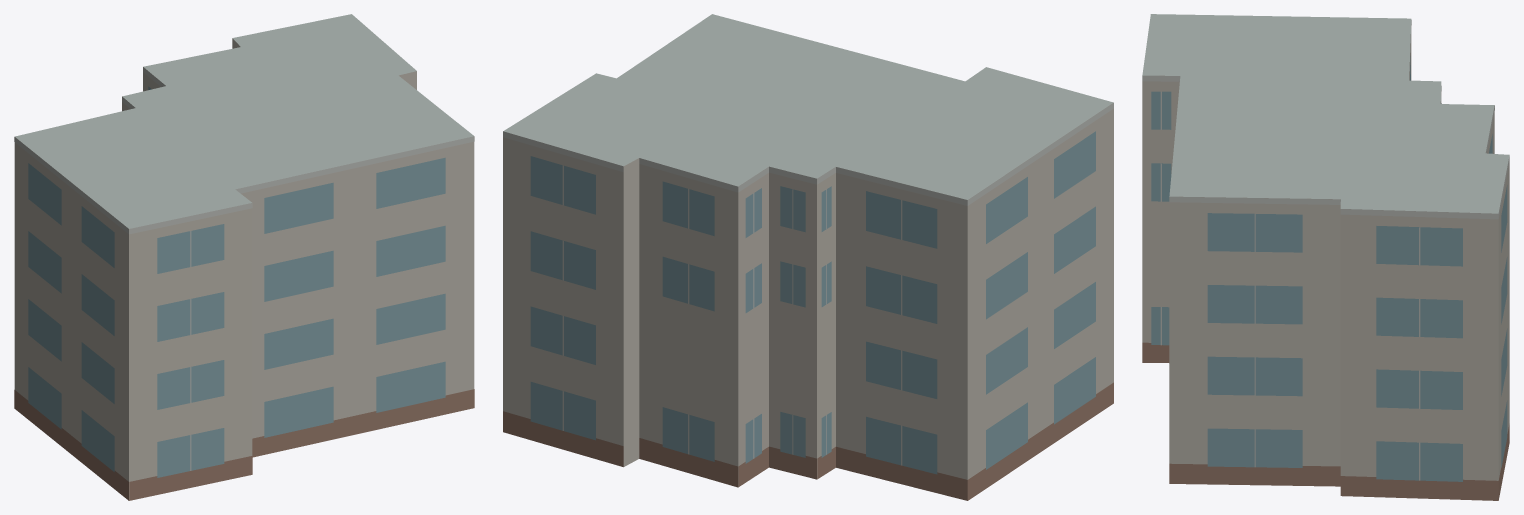
The model's file is survey-upis-32684684.glb.
The picture shows the model from 3 angles, left to right: view 1: azimuth 30°, elevation 25°; view 2: azimuth 150°, elevation 25°; view 3: azimuth 270°, elevation 25°; orthographic projection. The views are drawn at different scales.
Visible parts, largest first — view 1: survey-upis-32684684.tmp; view 2: survey-upis-32684684.tmp; view 3: survey-upis-32684684.tmp.
Boxes of the visible parts, left/top/right/bottom form: survey-upis-32684684.tmp: left=14, top=14, right=474, bottom=500; survey-upis-32684684.tmp: left=503, top=14, right=1113, bottom=500; survey-upis-32684684.tmp: left=1142, top=14, right=1509, bottom=500.
Size of the model in its own units: 18.2 by 12.2 by 14.15.
